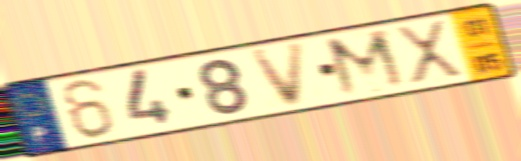4: (125, 65, 180, 132)
6: (60, 77, 118, 142)
8: (196, 57, 252, 117)
M: (321, 26, 413, 100)
V: (247, 39, 309, 111)
X: (391, 17, 468, 86)
